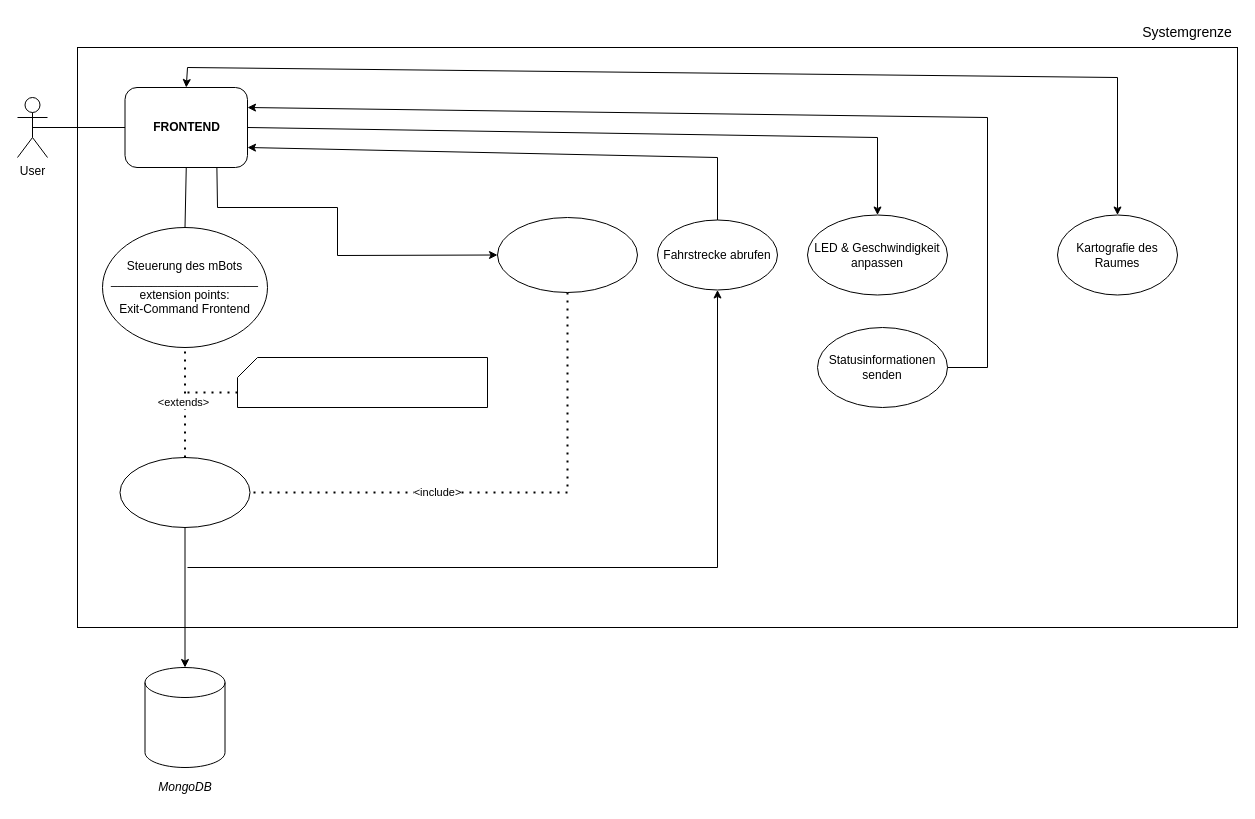
Some shapes in this 1255 by 819 pixel diagram are drawn without their labels. Each missing label, with the centre of its shape:
"condition: {fahrstreckeSpeichern == true} extension point: Exit-Command Frontend" goes at [362,382].
"Fahrstrecke manuell erstellen" goes at [567,254].
"Fahrstrecke speichern" goes at [184,492].
